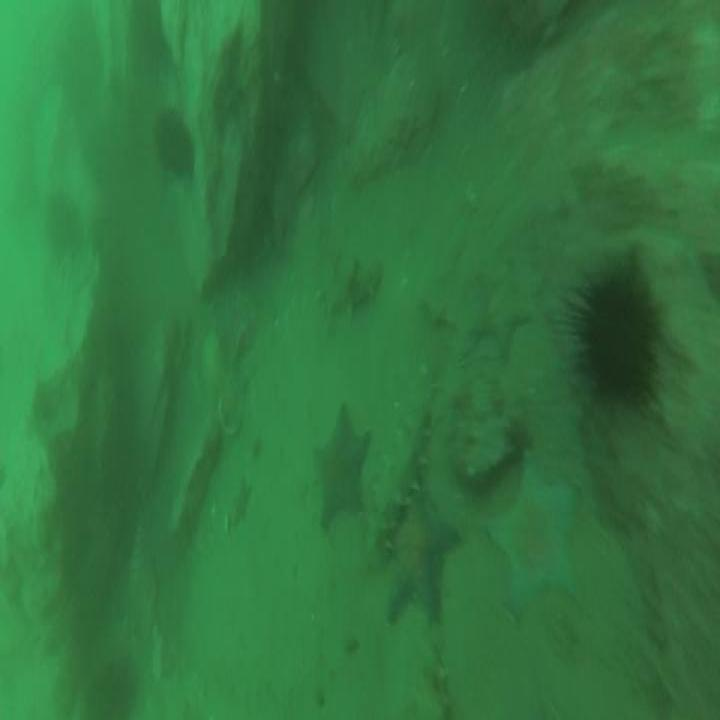echinus: (486, 450, 589, 622), (570, 257, 664, 426), (152, 103, 197, 187), (44, 190, 86, 262)
holothurian: (367, 402, 433, 546), (320, 253, 384, 324)
starfish: (383, 480, 463, 626), (310, 402, 374, 538)
